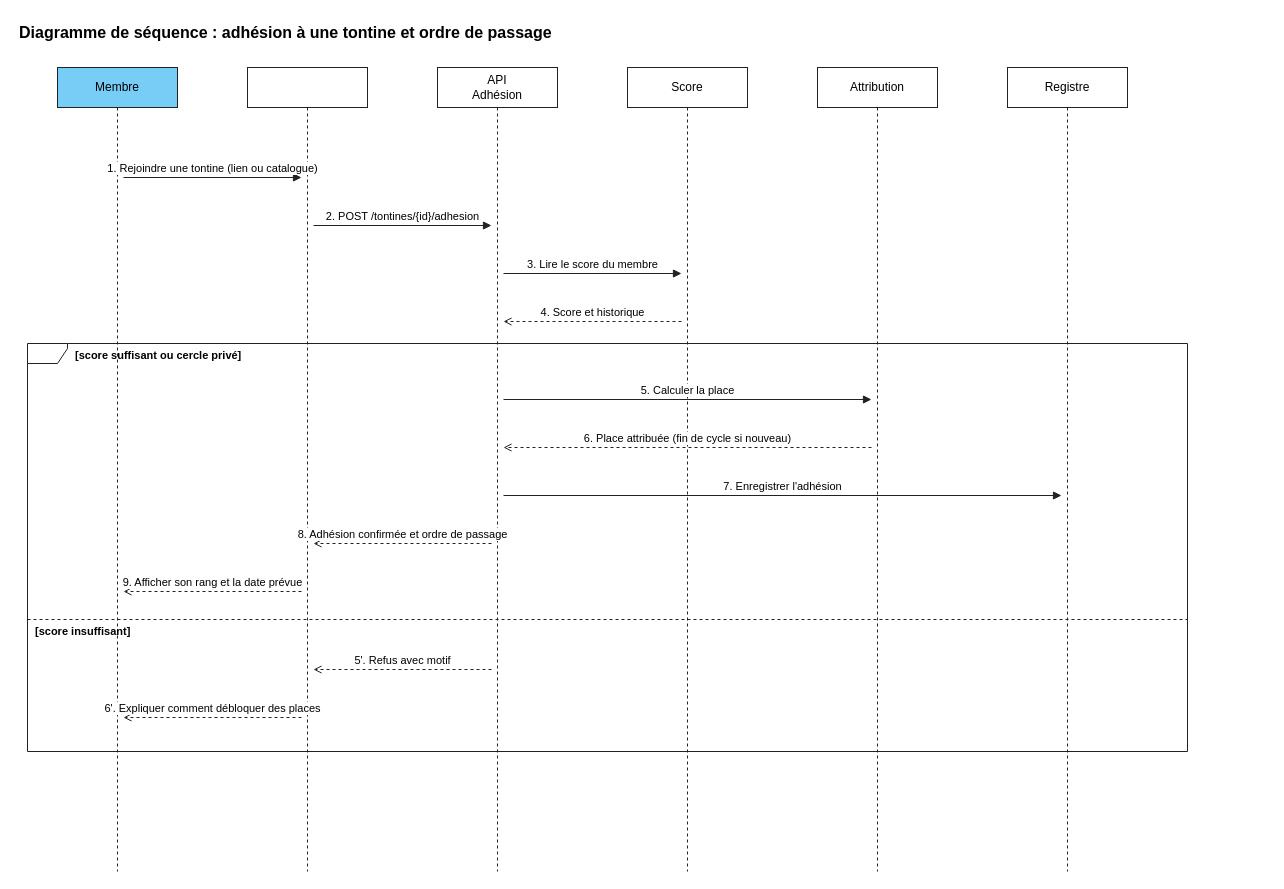
This 1284x889 diagram has some shape labels left out. Here are the shapes that lost their labels. From the top down, the box of each, then its label:
(246, 66, 368, 872): Application mobile
(26, 342, 1188, 752): alt
